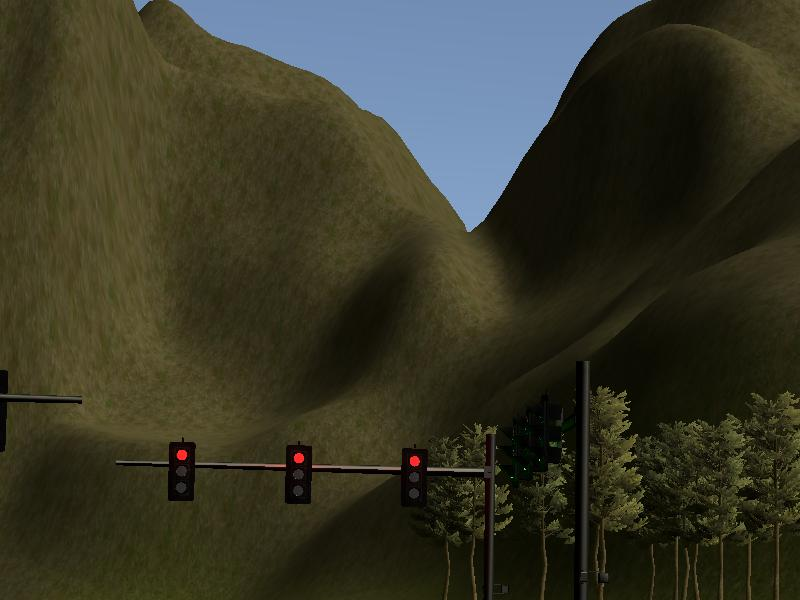red: (166, 440, 197, 502), (282, 442, 313, 504), (399, 444, 430, 506)
